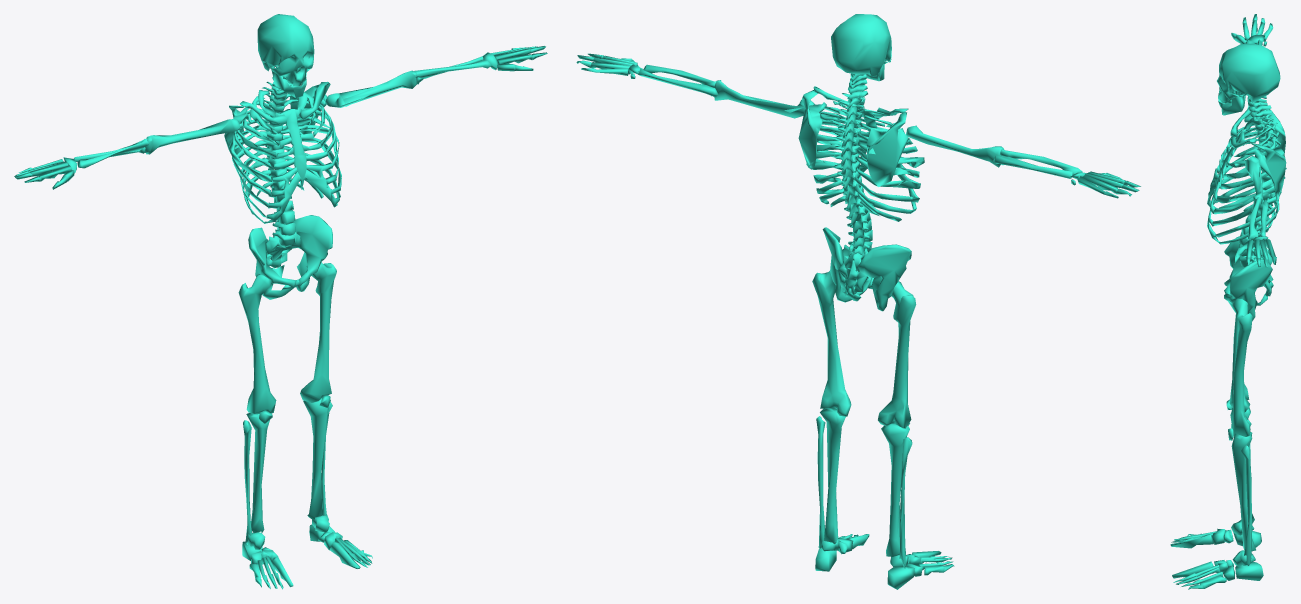
File: bones.obj
3 views of the same model, side by side, from view 1: azimuth 30°, elevation 25°; view 2: azimuth 150°, elevation 25°; view 3: azimuth 270°, elevation 25° (orthographic). The views are drawn at different scales.
Visible parts, largest first — view 1: sub01, sub02; view 2: sub01, sub02; view 3: sub01, sub02.
Boxes of the visible parts, x1,y1,x2,y2 form: sub01: (14, 14, 547, 589); sub02: (229, 92, 341, 299); sub01: (576, 14, 1140, 589); sub02: (806, 105, 924, 311); sub01: (1170, 14, 1286, 589); sub02: (1212, 117, 1279, 320).
Size of the model in its own units: 1.86 by 1.78 by 0.3614.
